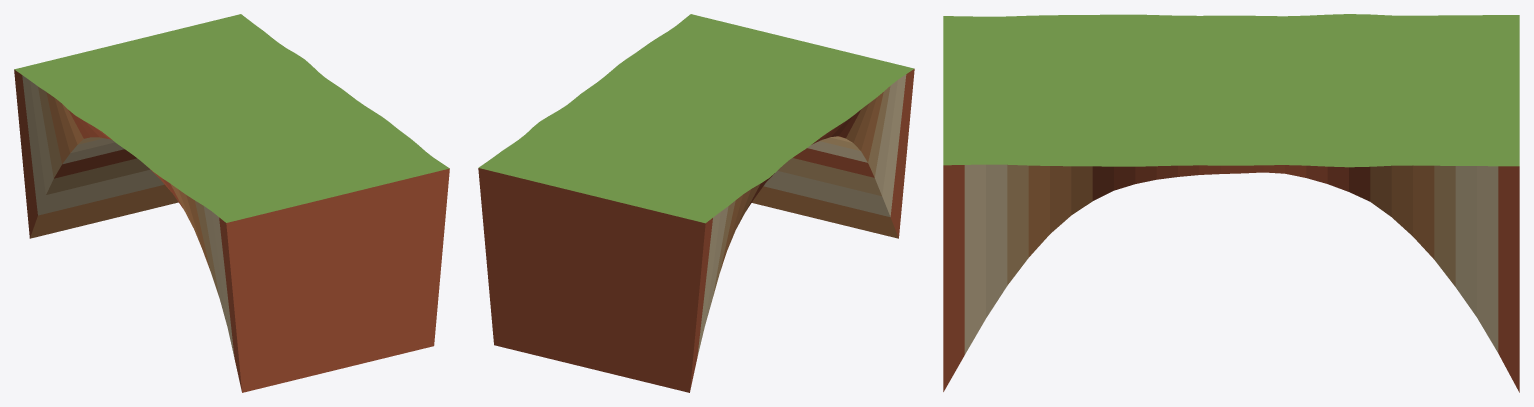
File: ponte_13b.glb
The picture shows the model from 3 angles, left to right: view 1: azimuth 30°, elevation 25°; view 2: azimuth 150°, elevation 25°; view 3: azimuth 270°, elevation 25°; orthographic projection. The views are drawn at different scales.
Visible parts, largest first — view 1: ponte_13b; view 2: ponte_13b; view 3: ponte_13b.
Boxes of the visible parts, x1,y1,x2,y2 form: ponte_13b: (14, 14, 449, 392); ponte_13b: (478, 14, 914, 392); ponte_13b: (943, 14, 1519, 392).
Bounding box in the file's own units: 69.26 × 50.09 × 110.
